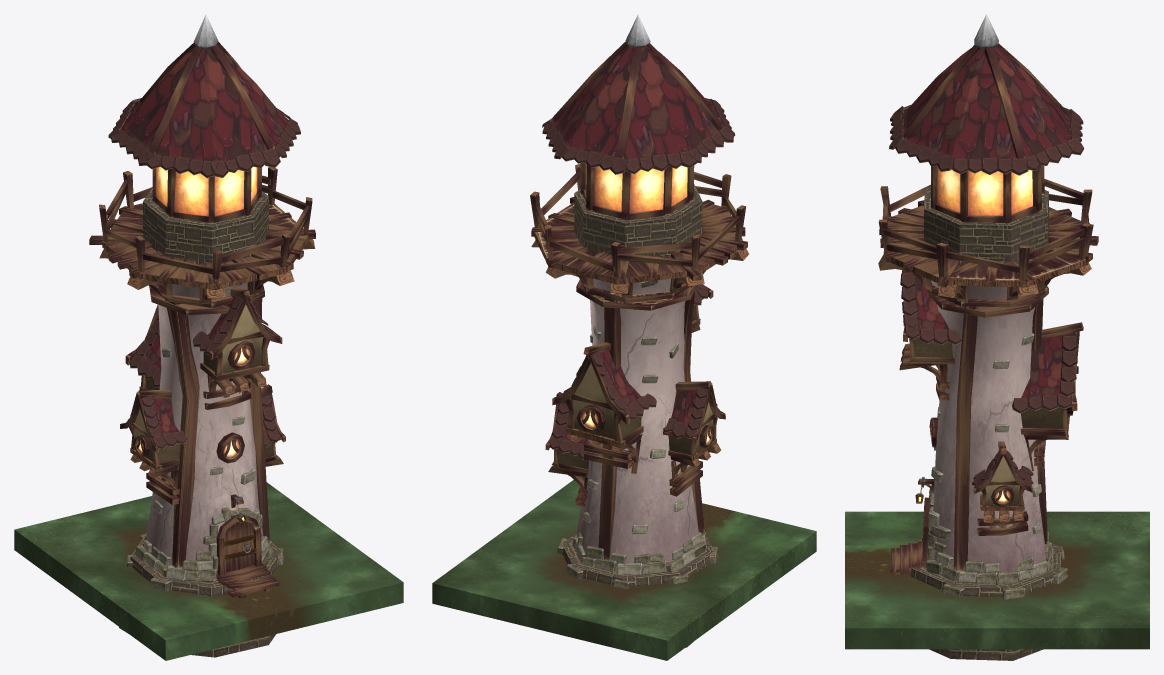
File: light_house.glb
The picture shows the model from 3 angles, left to right: view 1: azimuth 30°, elevation 25°; view 2: azimuth 150°, elevation 25°; view 3: azimuth 270°, elevation 25°; orthographic projection.
Visible parts, largest first — view 1: Object_8, Object_6, Object_5, Object_2, Object_7, Object_4; view 2: Object_5, Object_6, Object_8, Object_2, Object_7, Object_4; view 3: Object_5, Object_6, Object_8, Object_2, Object_7, Object_4.
Boxes of the visible parts, <box> form: Object_8: <box>89,41,315,598</box>; Object_6: <box>14,482,403,660</box>; Object_5: <box>108,14,300,591</box>; Object_2: <box>121,47,288,437</box>; Object_7: <box>119,188,280,657</box>; Object_4: <box>134,304,272,463</box>; Object_5: <box>542,14,735,588</box>; Object_6: <box>432,476,816,660</box>; Object_8: <box>530,41,748,559</box>; Object_2: <box>554,45,724,444</box>; Object_7: <box>562,184,713,647</box>; Object_4: <box>556,305,713,469</box>; Object_5: <box>889,14,1084,599</box>; Object_6: <box>845,511,1149,649</box>; Object_8: <box>878,43,1098,574</box>; Object_2: <box>901,46,1075,481</box>; Object_7: <box>910,186,1062,660</box>; Object_4: <box>912,338,1063,505</box>.
Size of the model in its own units: 1138 by 2795 by 1255.
Materials: 7 (7 with a texture image).
